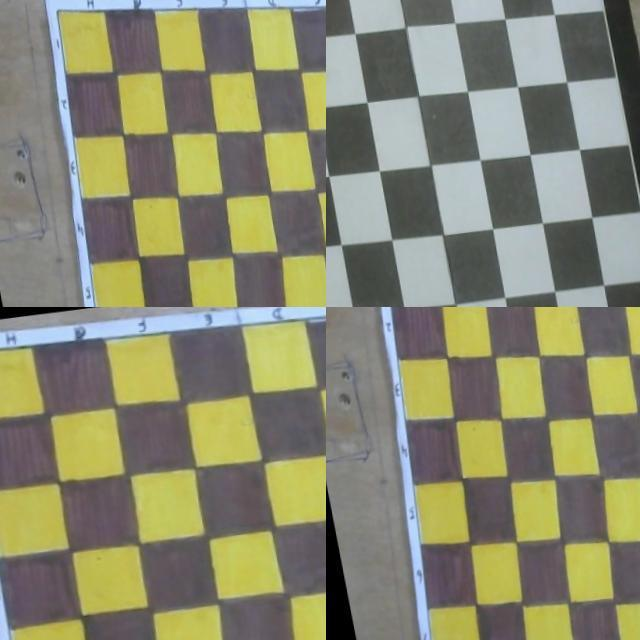chess-table-corners: (0, 349, 5, 358), (54, 8, 60, 15), (575, 0, 582, 4), (326, 0, 329, 4), (379, 307, 383, 310)
